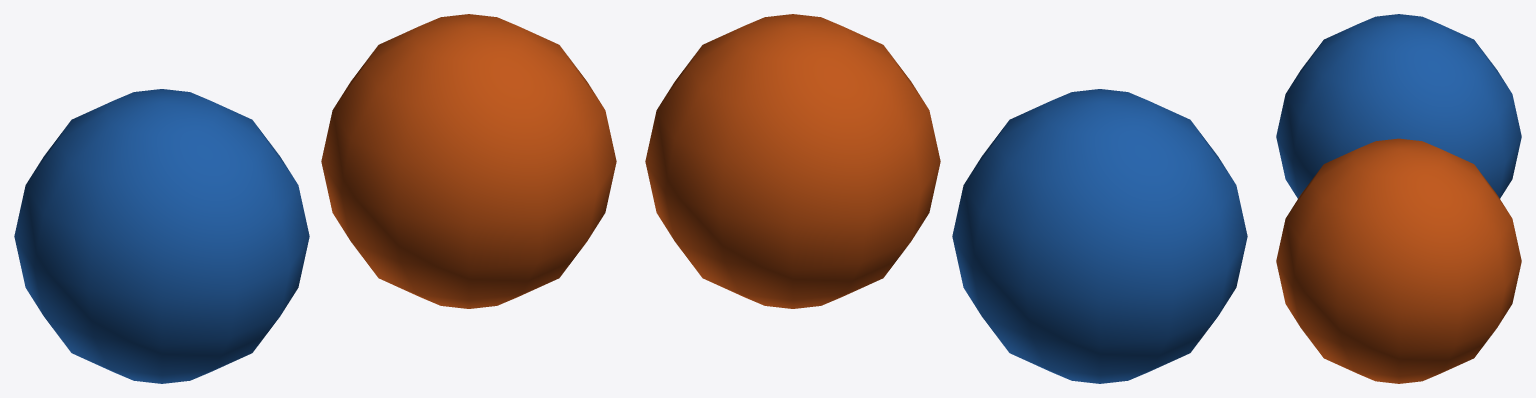
Rendered from morph-a.glb.
The picture shows the model from 3 angles, left to right: view 1: azimuth 30°, elevation 25°; view 2: azimuth 150°, elevation 25°; view 3: azimuth 270°, elevation 25°; orthographic projection. The views are drawn at different scales.
Parts seen in each view (by area): view 1: cortex.left, cortex.right; view 2: cortex.left, cortex.right; view 3: cortex.right, cortex.left.
Part boxes in pixels (box(x1,y1,x2,y2)): cortex.left: box(14, 89, 309, 383); cortex.right: box(321, 14, 616, 308); cortex.left: box(952, 89, 1247, 383); cortex.right: box(645, 14, 940, 308); cortex.right: box(1276, 138, 1521, 383); cortex.left: box(1276, 14, 1521, 198).
Size of the model in its own units: 4.4 by 2 by 2.
